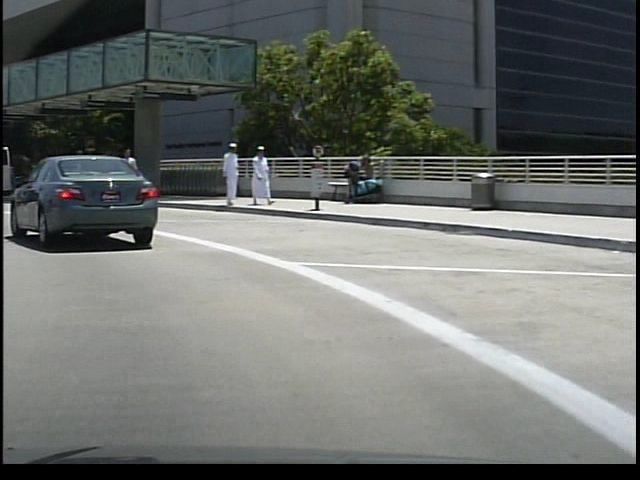person: (211, 138, 242, 213), (109, 142, 139, 218), (245, 143, 271, 205)
